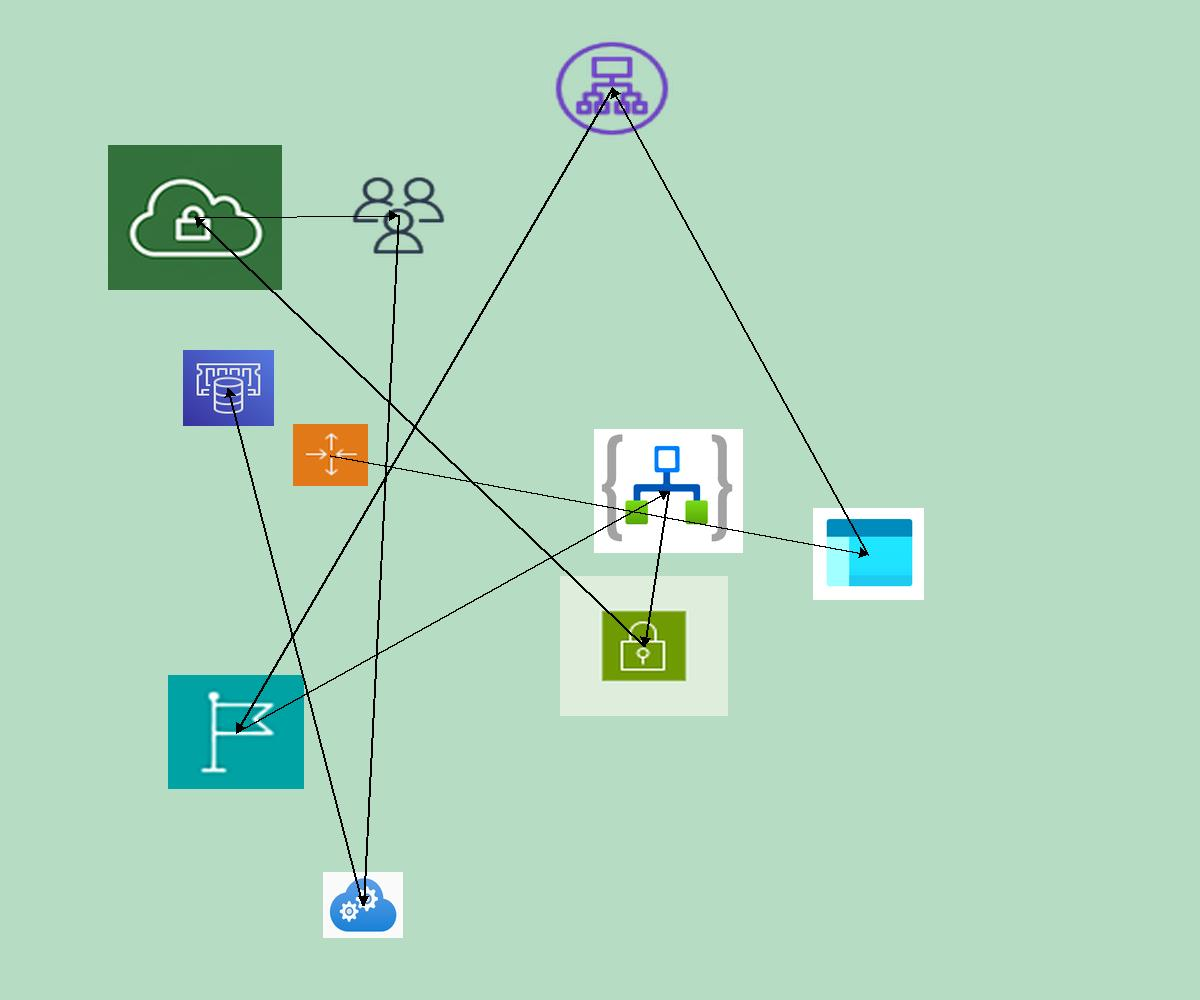AWS-ElastiCache: (183, 350, 274, 426)
AWS-Private_vpc: (108, 145, 282, 290)
AWS-Public-subnet: (560, 576, 728, 716)
AWS-Region: (168, 675, 304, 789)
AWS-Res_Elastic-Load-Balancing_Application-Load-Balancer: (551, 38, 673, 139)
AWS-Res_Users: (349, 174, 448, 257)
AWS-Scaling-group: (293, 424, 368, 486)
Azure_cloud_services: (323, 872, 403, 938)
Azure_integration-204-Logic-Apps: (594, 429, 743, 553)
Azure_management-portal: (813, 508, 924, 600)
